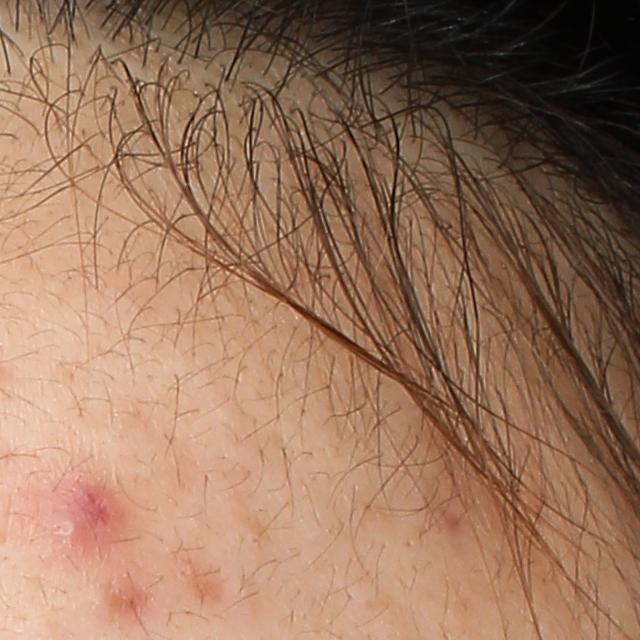papule: (35, 480, 119, 558)
